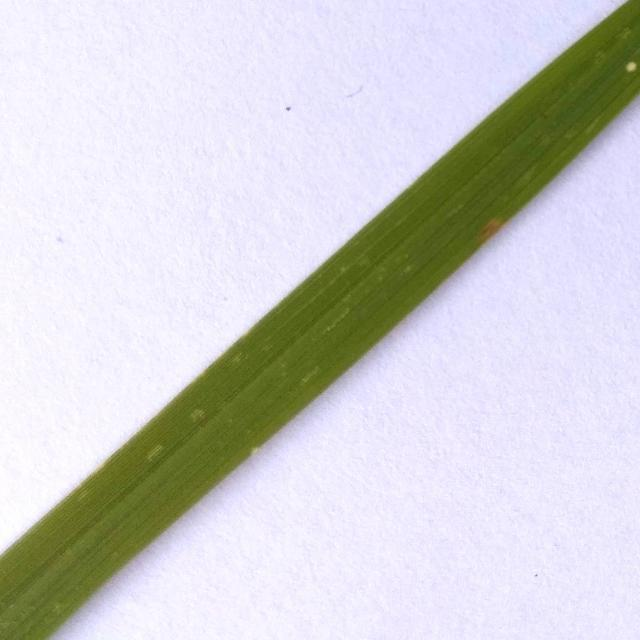Blast: (478, 220, 499, 240), (625, 58, 640, 74)
